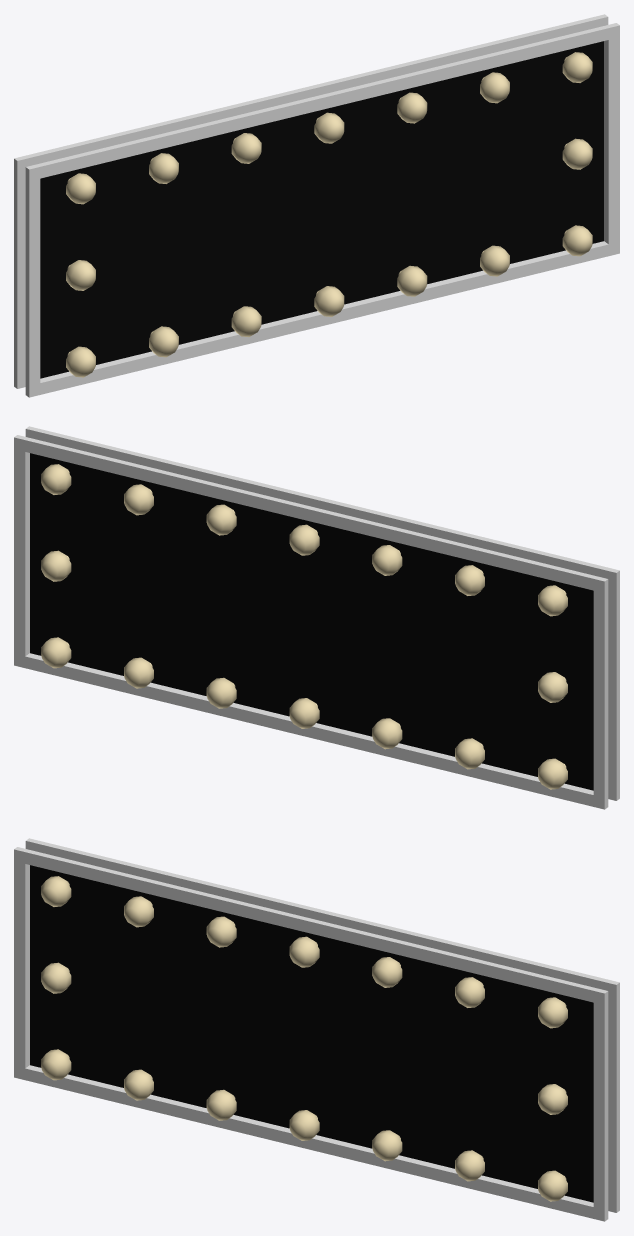
File: WW_CinemaRoomLable_01.fbx
The picture shows the model from 3 angles, top to bottom: view 1: azimuth 30°, elevation 25°; view 2: azimuth 150°, elevation 25°; view 3: azimuth 330°, elevation 25°; orthographic projection.
Parts seen in each view (by area): view 1: CinemaNumberHolder, LightBulb_014, LightBulb_026, LightBulb_012, LightBulb_02, LightBulb_017, LightBulb_021, LightBulb_016, LightBulb_05, LightBulb_013, LightBulb_010, LightBulb_011 (+5 smaller); view 2: CinemaNumberHolder, LightBulb_03, LightBulb_025, LightBulb_030, LightBulb_033, LightBulb_06, LightBulb_023, LightBulb_032, LightBulb_024, LightBulb_019, LightBulb_031, LightBulb_018 (+5 smaller); view 3: CinemaNumberHolder, LightBulb_09, LightBulb_02, LightBulb_08, LightBulb_012, LightBulb_021, LightBulb_010, LightBulb_014, LightBulb_026, LightBulb_013, LightBulb_016, LightBulb_015 (+5 smaller).
Part boxes in pixels (left/top/right/bottom): CinemaNumberHolder: left=14, top=14, right=619, bottom=397; LightBulb_014: left=397, top=265, right=427, bottom=296; LightBulb_026: left=397, top=92, right=427, bottom=123; LightBulb_012: left=231, top=306, right=261, bottom=337; LightBulb_02: left=314, top=112, right=344, bottom=143; LightBulb_017: left=562, top=138, right=592, bottom=169; LightBulb_021: left=231, top=133, right=261, bottom=163; LightBulb_016: left=562, top=225, right=592, bottom=256; LightBulb_05: left=562, top=52, right=592, bottom=82; LightBulb_013: left=314, top=286, right=344, bottom=316; LightBulb_010: left=66, top=346, right=95, bottom=377; LightBulb_011: left=149, top=326, right=178, bottom=357; CinemaNumberHolder: left=14, top=426, right=619, bottom=809; LightBulb_03: left=206, top=504, right=236, bottom=535; LightBulb_025: left=206, top=677, right=236, bottom=708; LightBulb_030: left=372, top=718, right=402, bottom=749; LightBulb_033: left=289, top=524, right=319, bottom=555; LightBulb_06: left=372, top=545, right=402, bottom=575; LightBulb_023: left=41, top=550, right=71, bottom=581; LightBulb_032: left=41, top=464, right=71, bottom=494; LightBulb_024: left=289, top=698, right=319, bottom=728; LightBulb_019: left=41, top=637, right=71, bottom=668; LightBulb_031: left=455, top=738, right=484, bottom=769; LightBulb_018: left=124, top=657, right=153, bottom=688; CinemaNumberHolder: left=14, top=838, right=619, bottom=1221; LightBulb_09: left=41, top=962, right=71, bottom=993; LightBulb_02: left=289, top=936, right=319, bottom=967; LightBulb_08: left=41, top=876, right=71, bottom=906; LightBulb_012: left=206, top=1089, right=236, bottom=1120; LightBulb_021: left=206, top=916, right=236, bottom=947; LightBulb_010: left=41, top=1049, right=71, bottom=1080; LightBulb_014: left=372, top=1130, right=402, bottom=1161; LightBulb_026: left=372, top=957, right=402, bottom=987; LightBulb_013: left=289, top=1110, right=319, bottom=1140; LightBulb_016: left=538, top=1170, right=567, bottom=1201; LightBulb_015: left=455, top=1150, right=484, bottom=1181.
Bounding box in the file's own units: 178 × 65.83 × 20.9.
